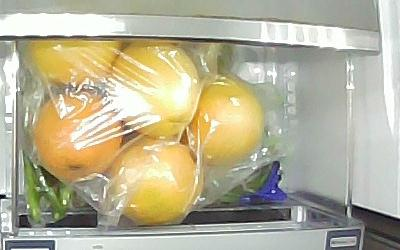grapefruit_vinyl: (111, 41, 200, 137), (109, 139, 201, 226), (36, 89, 122, 181), (187, 79, 264, 165), (28, 40, 122, 87)
